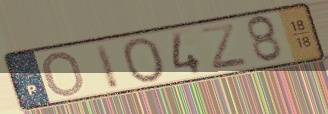4: (171, 30, 204, 77)
8: (244, 14, 284, 66)
I: (92, 41, 123, 92)
O: (120, 36, 168, 85), (41, 50, 87, 98)
Z: (198, 21, 251, 72)
